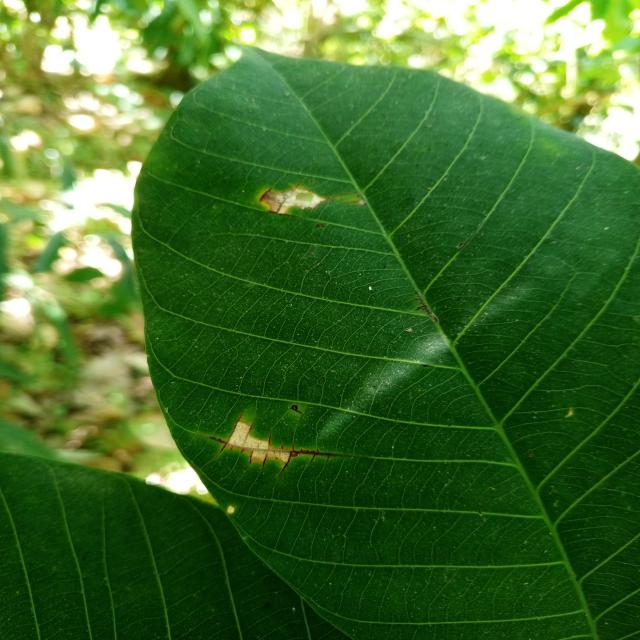Corynespora: (209, 411, 337, 478), (413, 290, 440, 322), (289, 404, 307, 420)
Leaf-Blight: (262, 188, 326, 214)
